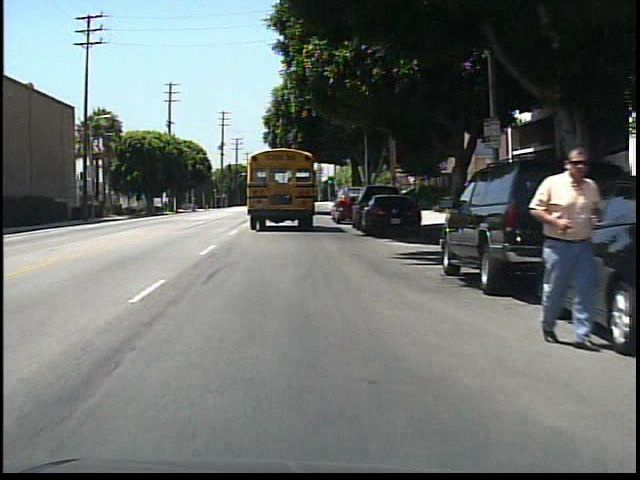person: (518, 140, 596, 351)
